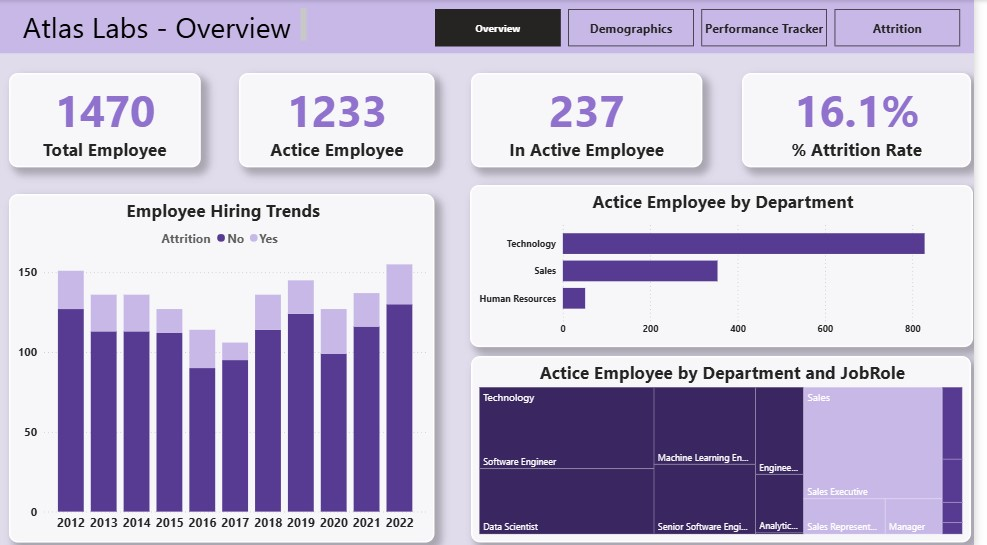

What the dashboard file says about the page in this screenshot:
{"tool":"powerbi","page":{"name":"Overview","canvas":[1280,720],"ordinal":0},"visuals":[{"type":"card","fields":{"Values":["_Measure.Total Employee"]},"box":[12.4,96.3,251.9,123.9],"z":0},{"type":"card","fields":{"Values":["_Measure.Actice Employee"]},"box":[313.8,96.3,257.4,123.9],"z":1000},{"type":"card","fields":{"Values":["_Measure.In Active Employee"]},"box":[619.4,96.3,304.2,123.9],"z":2000},{"type":"card","fields":{"Values":["_Measure.% Attrition Rate"]},"box":[974.5,96.3,301.4,123.9],"z":3000},{"type":"columnChart","title":" Employee Hiring Trends","fields":{"Y":["_Measure.Total Employee Date"],"Category":["DimDate.Year"],"Series":["DimEmployee.Attrition"]},"box":[12.4,254.6,558.8,458.3],"z":4000},{"type":"clusteredBarChart","fields":{"Y":["_Measure.Actice Employee"],"Category":["DimEmployee.Department"]},"box":[618,243.6,660.6,213.3],"z":5000},{"type":"treemap","fields":{"Values":["_Measure.Actice Employee"],"Group":["DimEmployee.Department"],"Details":["DimEmployee.JobRole"]},"box":[619.4,468,656.5,245],"z":6000},{"type":"shape","box":[0,0,1280,70.2],"z":7000},{"type":"textbox","box":[12.4,5.5,396.4,56.4],"z":8000},{"type":"pageNavigator","box":[571.2,12.4,692.3,49.5],"z":9000}]}

Visuals, with their boxes in screenshot pixels (x1, y1, x2, y2), scaled from the page's 1280x720 canvas onto the 987x545 screenshot:
card - _Measure.Total Employee: left=10, top=73, right=204, bottom=167
card - _Measure.Actice Employee: left=242, top=73, right=440, bottom=167
card - _Measure.In Active Employee: left=478, top=73, right=712, bottom=167
card - _Measure.% Attrition Rate: left=751, top=73, right=984, bottom=167
" Employee Hiring Trends" columnChart: left=10, top=193, right=440, bottom=540
clusteredBarChart - _Measure.Actice Employee x DimEmployee.Department: left=477, top=184, right=986, bottom=346
treemap - _Measure.Actice Employee x DimEmployee.Department: left=478, top=354, right=984, bottom=540
shape: left=0, top=0, right=986, bottom=53
textbox: left=10, top=4, right=315, bottom=47
pageNavigator: left=440, top=9, right=974, bottom=47
